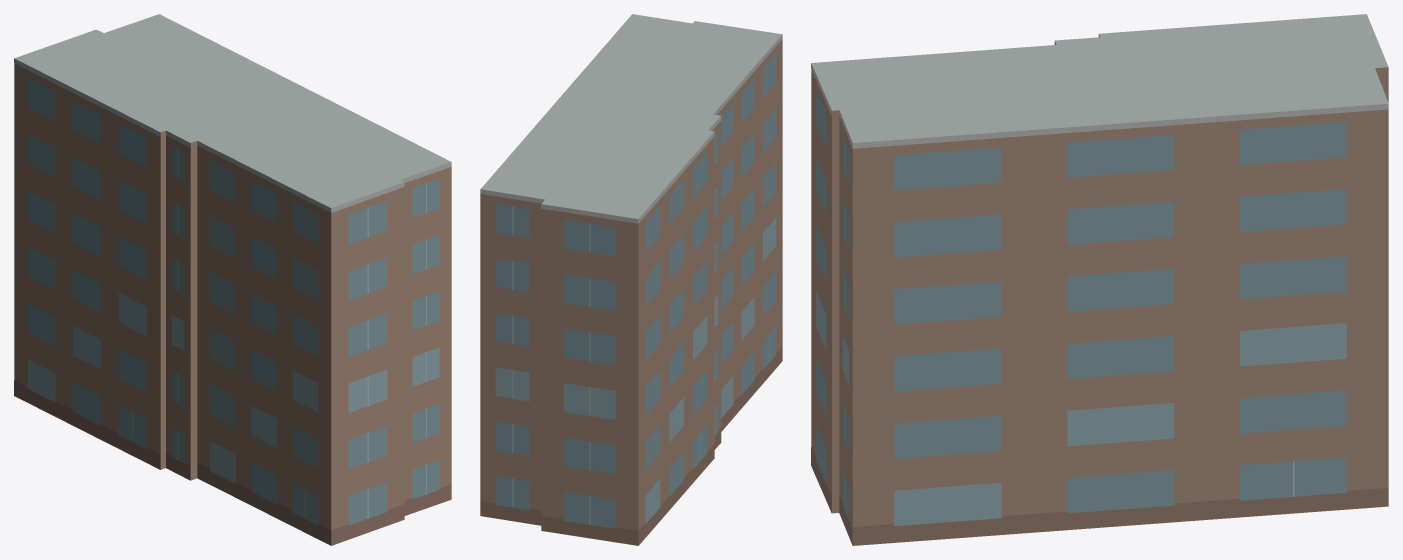
File: survey-upis-32744266.glb
The picture shows the model from 3 angles, left to right: view 1: azimuth 30°, elevation 25°; view 2: azimuth 150°, elevation 25°; view 3: azimuth 270°, elevation 25°; orthographic projection. The views are drawn at different scales.
Parts seen in each view (by area): view 1: survey-upis-32744266.tmp; view 2: survey-upis-32744266.tmp; view 3: survey-upis-32744266.tmp.
Boxes of the visible parts, left/top/right/bottom form: survey-upis-32744266.tmp: left=14, top=14, right=451, bottom=545; survey-upis-32744266.tmp: left=480, top=14, right=782, bottom=545; survey-upis-32744266.tmp: left=811, top=14, right=1388, bottom=545.
Bounding box in the file's own units: 11.98 × 17.4 × 22.63.
